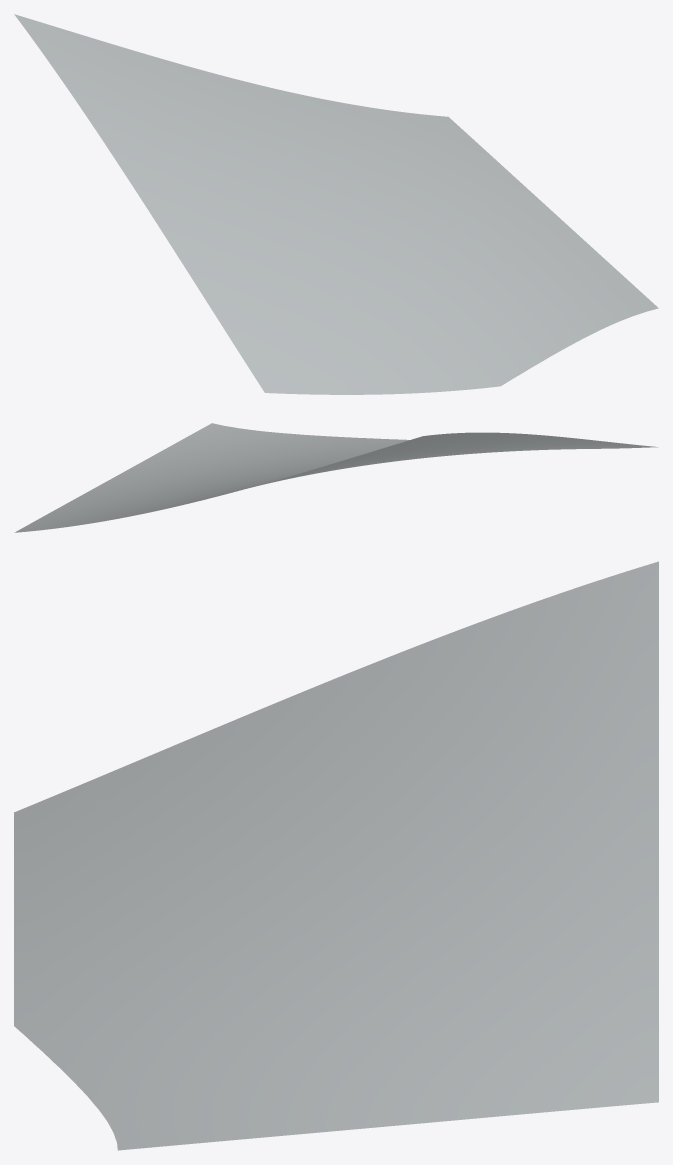
File: alpine-10-8.glb
3 renders of one model, top to bottom at view 1: azimuth 30°, elevation 25°; view 2: azimuth 150°, elevation 25°; view 3: azimuth 270°, elevation 25°, orthographic. The views are drawn at different scales.
Visible parts, largest first — view 1: alpine-10-8; view 2: alpine-10-8; view 3: alpine-10-8.
Part boxes in pixels (left/top/right/bottom): alpine-10-8: left=14, top=14, right=658, bottom=394; alpine-10-8: left=14, top=423, right=657, bottom=532; alpine-10-8: left=14, top=561, right=658, bottom=1150.
Bounding box in the file's own units: 256 × 139 × 256.
1 material, 1 textured.
